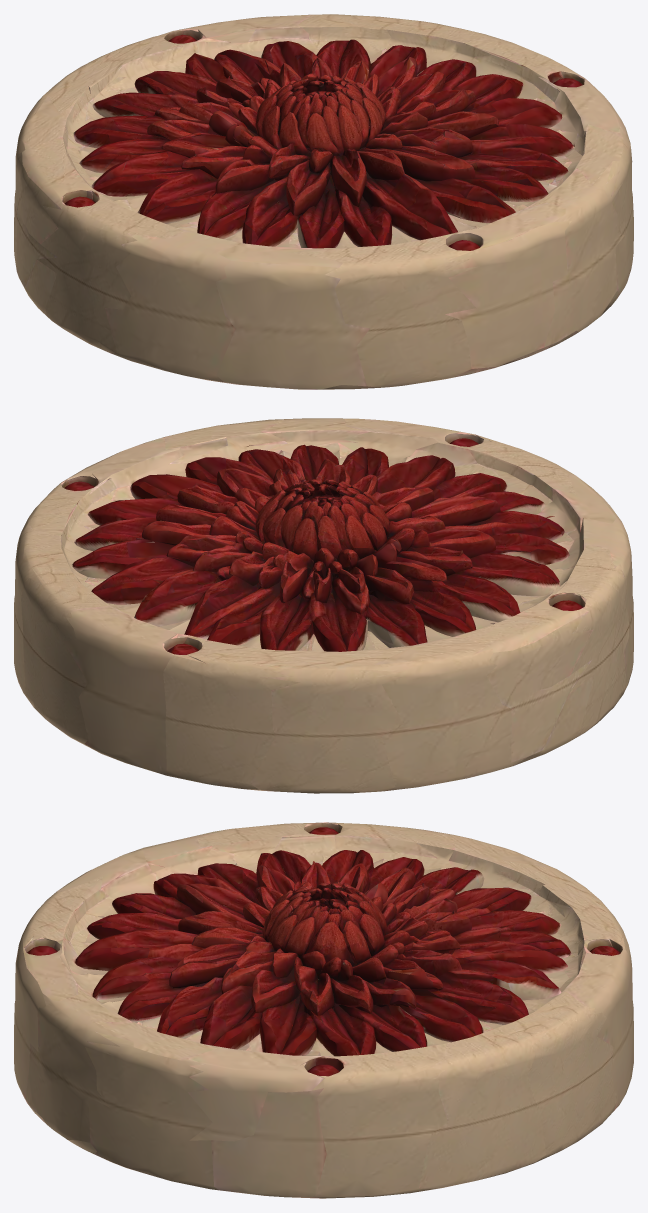
3 renders of one model, top to bottom at view 1: azimuth 30°, elevation 25°; view 2: azimuth 150°, elevation 25°; view 3: azimuth 270°, elevation 25°, orthographic.
Parts seen in each view (by area): view 1: Mesh_0; view 2: Mesh_0; view 3: Mesh_0.
Boxes of the visible parts, x1,y1,x2,y2 form: Mesh_0: (14,14,633,389); Mesh_0: (14,418,633,793); Mesh_0: (14,822,633,1198).
Bounding box in the file's own units: 1.9 × 0.5944 × 1.9.
Materials: 1 (1 with a texture image).
